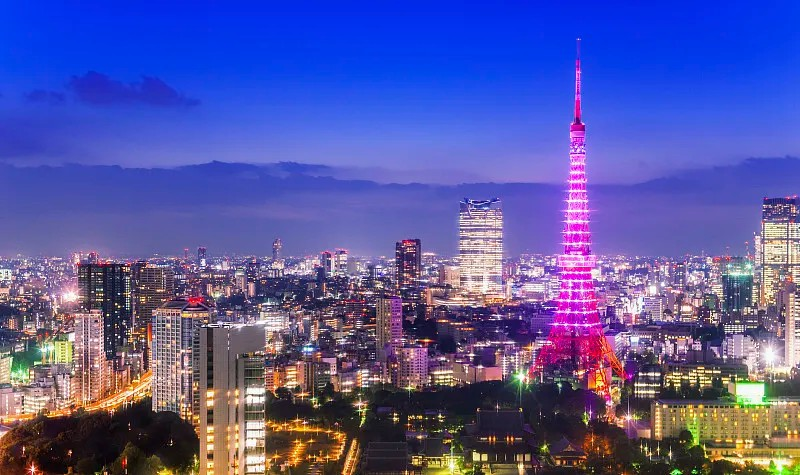Tokyo: (529, 35, 632, 391)
